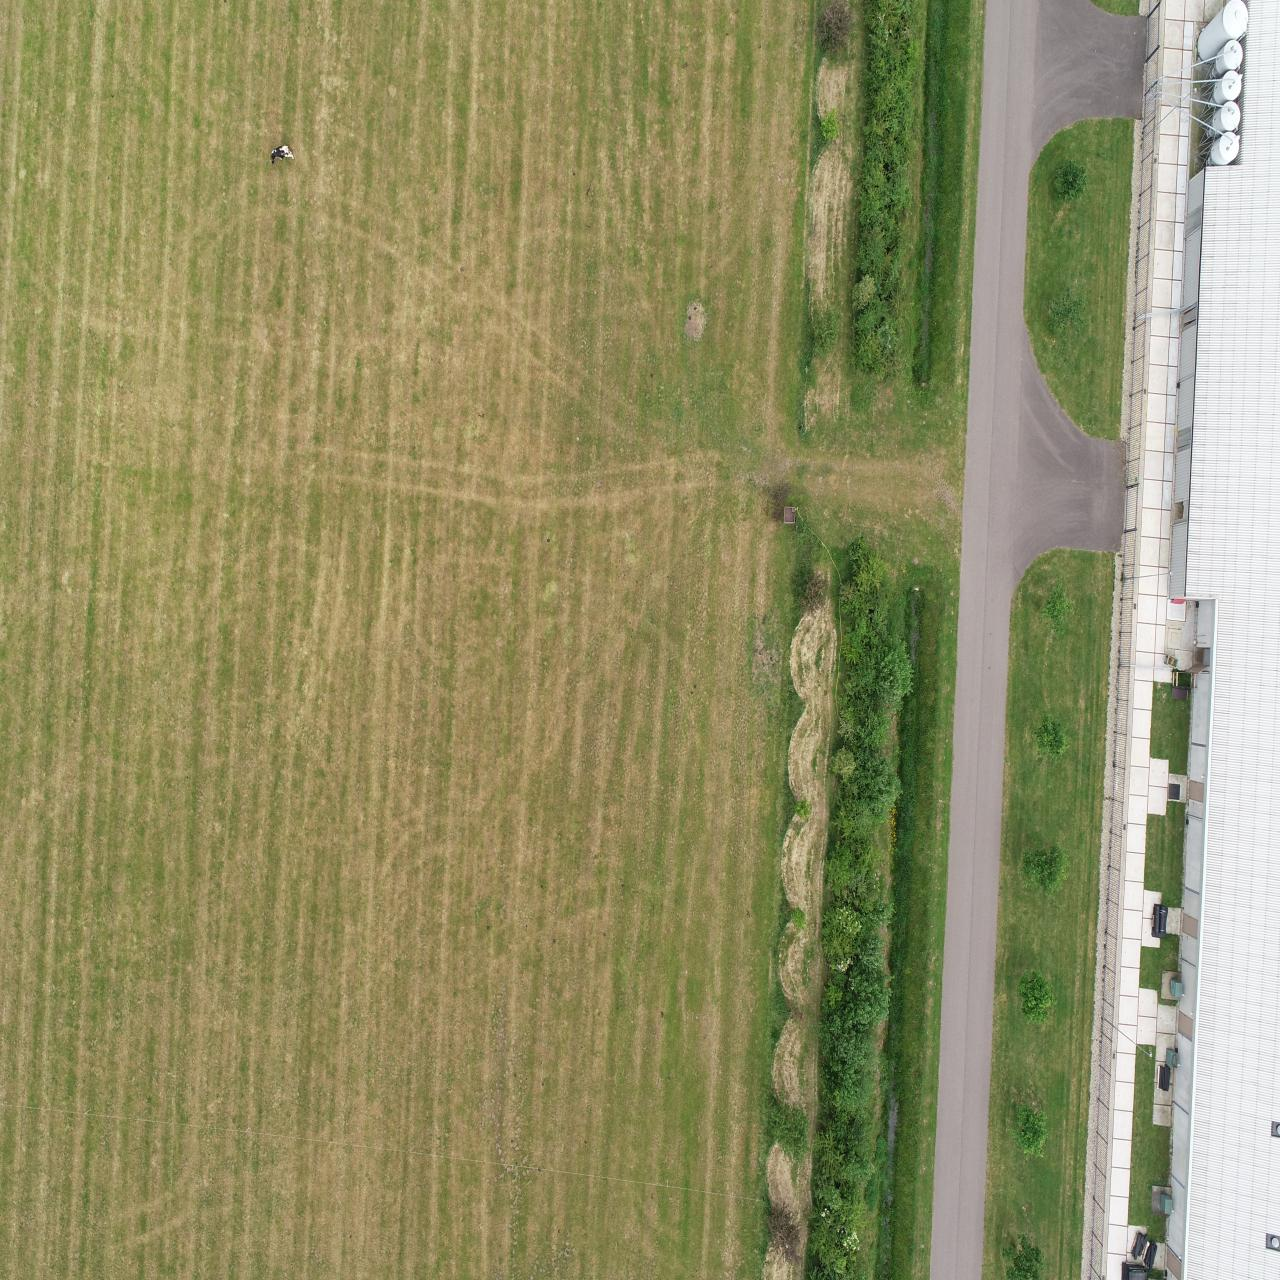cow: (270, 143, 295, 165)
